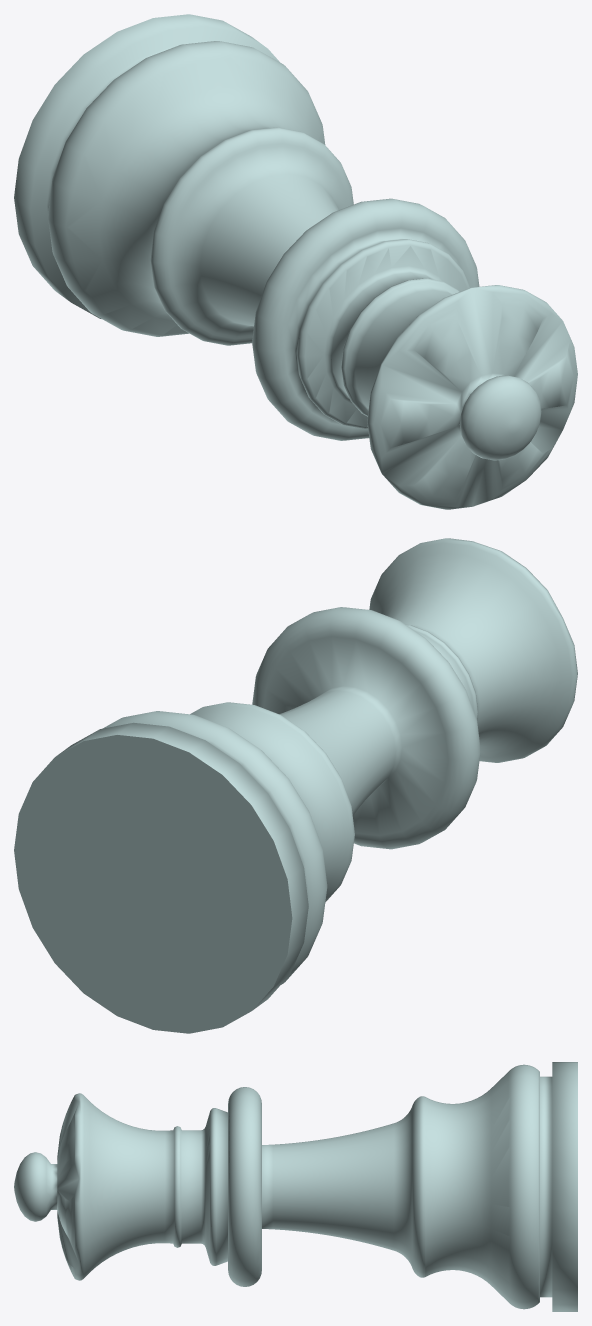
File: WhiteQueen.obj
3 views of the same model, one above another, from view 1: azimuth 30°, elevation 25°; view 2: azimuth 150°, elevation 25°; view 3: azimuth 270°, elevation 25° (orthographic). The views are drawn at different scales.
Visible parts, largest first — view 1: Mesh1 Agrupar_1_1 Group1 Model, Mesh2 Componente_1_1 Group1 Model; view 2: Mesh2 Componente_1_1 Group1 Model, Mesh1 Agrupar_1_1 Group1 Model; view 3: Mesh1 Agrupar_1_1 Group1 Model, Mesh2 Componente_1_1 Group1 Model.
Boxes of the visible parts, bbox=[...] form: Mesh1 Agrupar_1_1 Group1 Model: bbox=[150, 127, 577, 509]; Mesh2 Componente_1_1 Group1 Model: bbox=[14, 14, 325, 336]; Mesh2 Componente_1_1 Group1 Model: bbox=[14, 705, 351, 1033]; Mesh1 Agrupar_1_1 Group1 Model: bbox=[190, 538, 577, 902]; Mesh1 Agrupar_1_1 Group1 Model: bbox=[14, 1087, 425, 1286]; Mesh2 Componente_1_1 Group1 Model: bbox=[425, 1062, 577, 1311].
Size of the model in its own units: 67.78 by 67.78 by 152.
